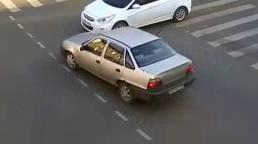car-accident: (58, 3, 198, 104)
